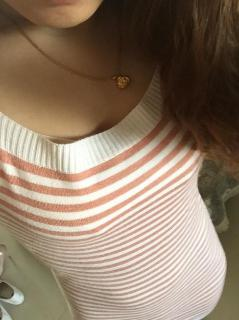sling: (0, 0, 228, 319)
